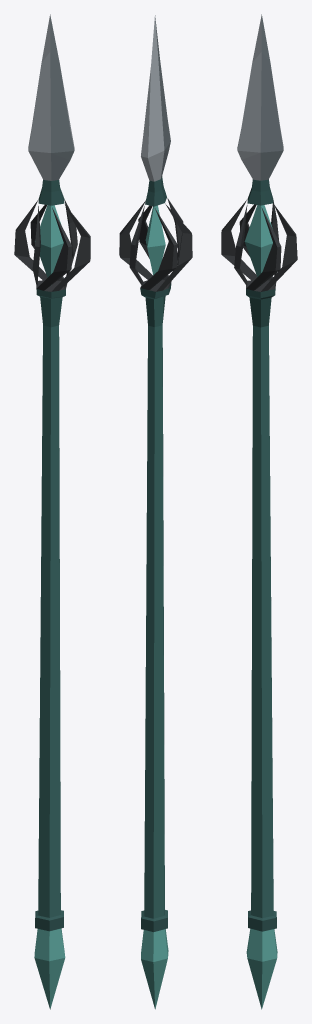
The model's file is Wep_Spear_01.fbx.
3 views of the same model, side by side, from view 1: azimuth 90°, elevation 25°; view 2: azimuth 150°, elevation 25°; view 3: azimuth 270°, elevation 25° (orthographic).
Parts seen in each view (by area): view 1: SM_Wep_Spear_01; view 2: SM_Wep_Spear_01; view 3: SM_Wep_Spear_01.
Boxes of the visible parts, x1=… form: SM_Wep_Spear_01: x1=14, y1=14, x2=90, y2=1009; SM_Wep_Spear_01: x1=119, y1=15, x2=192, y2=1009; SM_Wep_Spear_01: x1=221, y1=14, x2=297, y2=1009.
Bounding box in the file's own units: 13.1 × 214 × 14.85.
